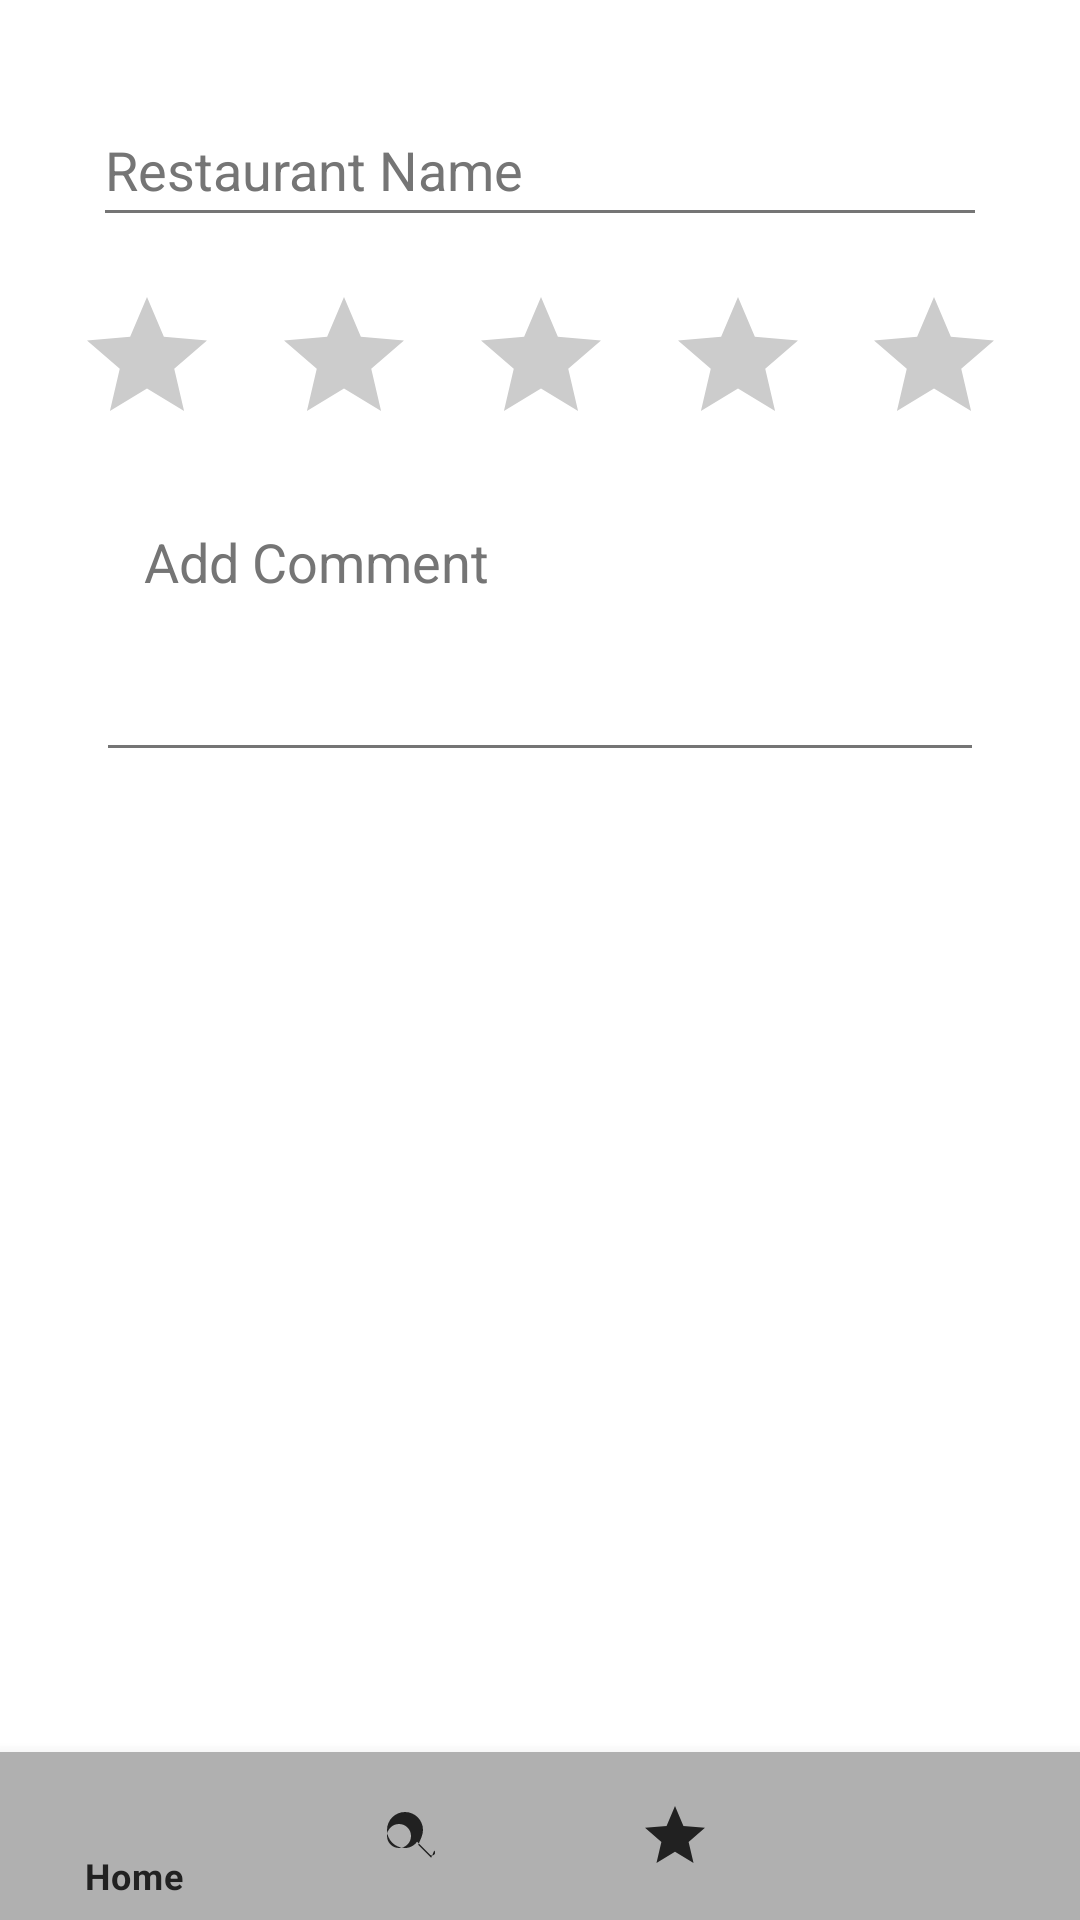

Screen size 1080x1920. Icon name, then its center in pixels as (x=x, y=y):
star empty: (x=147, y=354), (x=344, y=354), (x=541, y=354), (x=738, y=354), (x=934, y=354)
